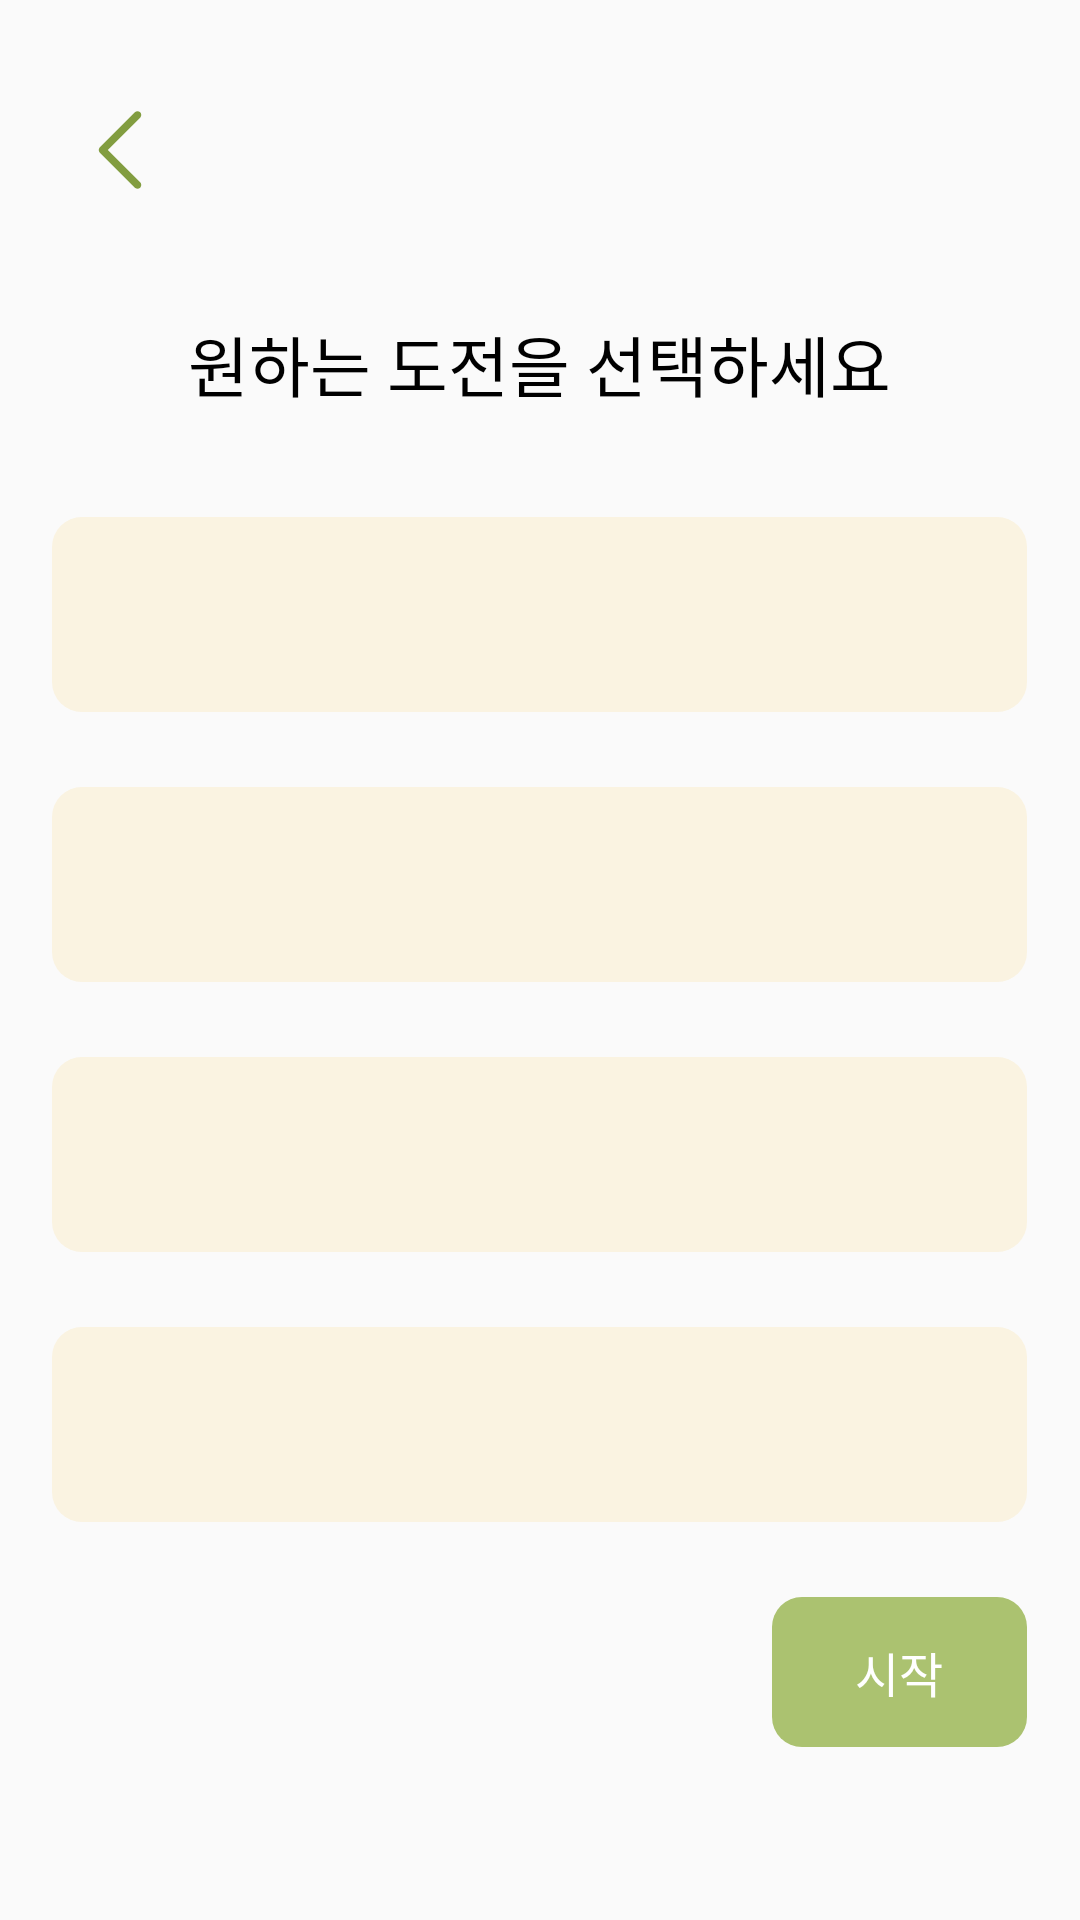

Where icons sit on this 1080px×1920px app screen, as (x1, y1, x2, y2):
back arrow: (98, 111, 142, 189)
